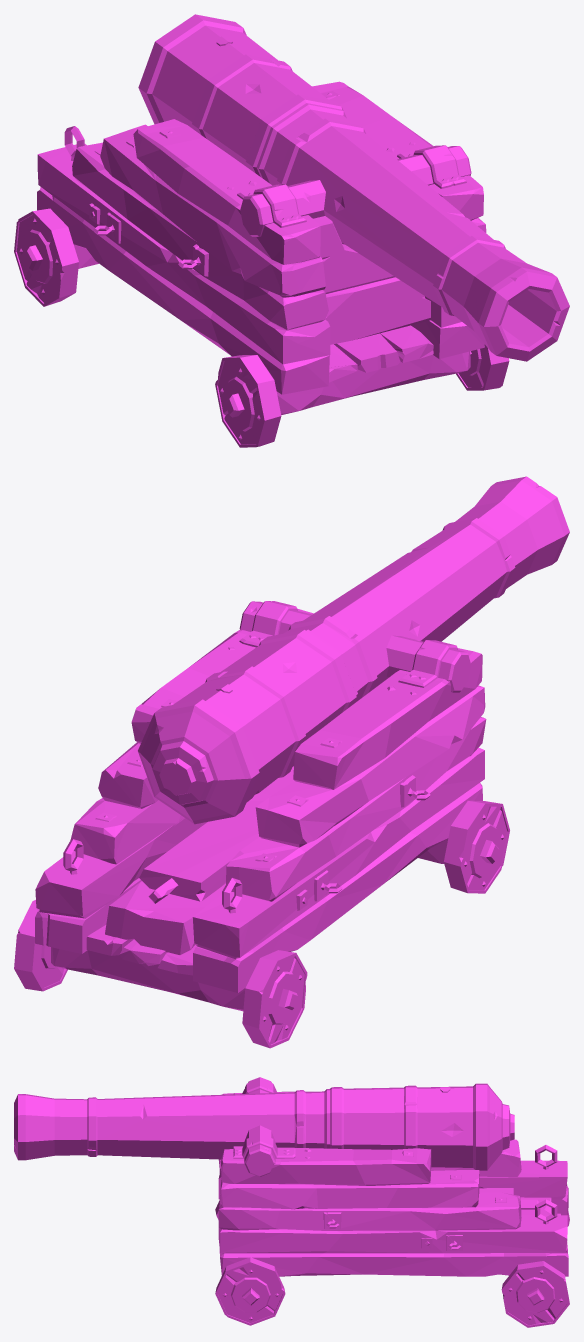
The model's file is SM_Cannon_Fantasy.fbx.
The picture shows the model from 3 angles, top to bottom: view 1: azimuth 30°, elevation 25°; view 2: azimuth 150°, elevation 25°; view 3: azimuth 270°, elevation 25°; orthographic projection. The views are drawn at different scales.
Parts seen in each view (by area): view 1: SM_Cannon_Fantasy_Base, SM_Cannon_Fantasy_Barrel, SM_Cannon_Fantasy_Wheel_F, SM_Cannon_Fantasy_Wheel_B; view 2: SM_Cannon_Fantasy_Base, SM_Cannon_Fantasy_Barrel, SM_Cannon_Fantasy_Wheel_B, SM_Cannon_Fantasy_Wheel_F; view 3: SM_Cannon_Fantasy_Base, SM_Cannon_Fantasy_Barrel, SM_Cannon_Fantasy_Wheel_F, SM_Cannon_Fantasy_Wheel_B.
Boxes of the visible parts, x1=… form: SM_Cannon_Fantasy_Base: x1=37, y1=81, x2=486, y2=414; SM_Cannon_Fantasy_Barrel: x1=138, y1=14, x2=569, y2=361; SM_Cannon_Fantasy_Wheel_F: x1=215, y1=344, x2=509, y2=447; SM_Cannon_Fantasy_Wheel_B: x1=14, y1=208, x2=78, y2=306; SM_Cannon_Fantasy_Base: x1=35, y1=601, x2=486, y2=1011; SM_Cannon_Fantasy_Barrel: x1=138, y1=476, x2=569, y2=824; SM_Cannon_Fantasy_Wheel_B: x1=14, y1=900, x2=307, y2=1048; SM_Cannon_Fantasy_Wheel_F: x1=444, y1=800, x2=509, y2=893; SM_Cannon_Fantasy_Base: x1=218, y1=1078, x2=568, y2=1276; SM_Cannon_Fantasy_Barrel: x1=14, y1=1077, x2=514, y2=1176; SM_Cannon_Fantasy_Wheel_F: x1=215, y1=1200, x2=285, y2=1325; SM_Cannon_Fantasy_Wheel_B: x1=501, y1=1211, x2=569, y2=1327.
Size of the model in its own units: 0.7816 by 0.7997 by 2.01.
